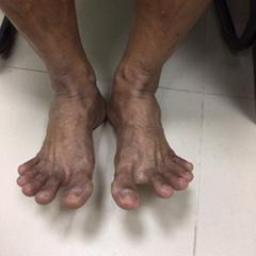Front View -Both Feet-: (8, 46, 200, 216)
